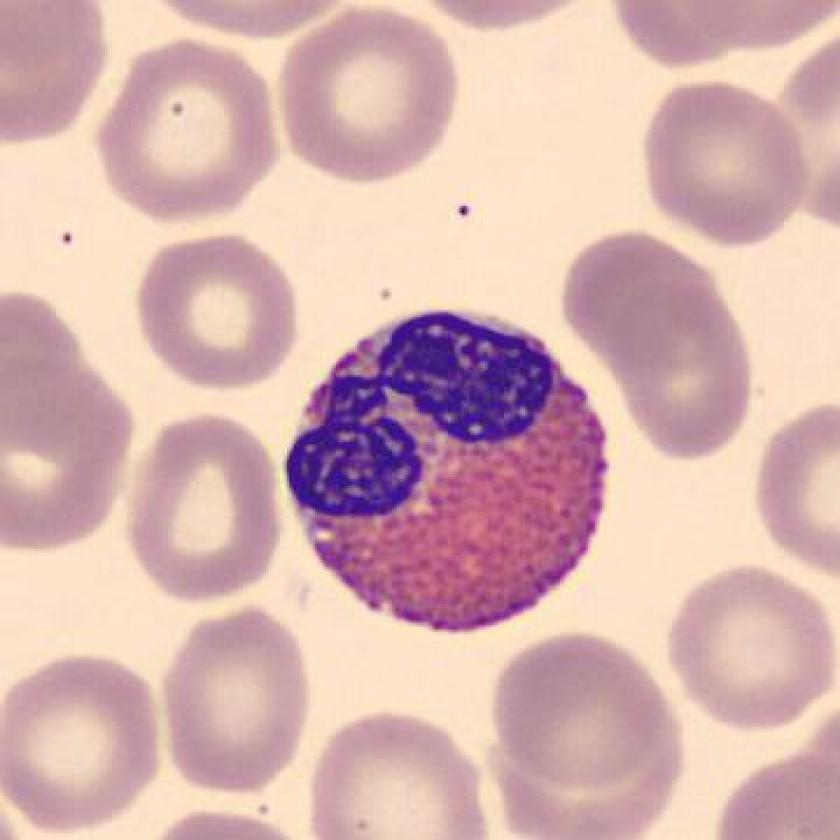eosinophil: (279, 300, 619, 645)
